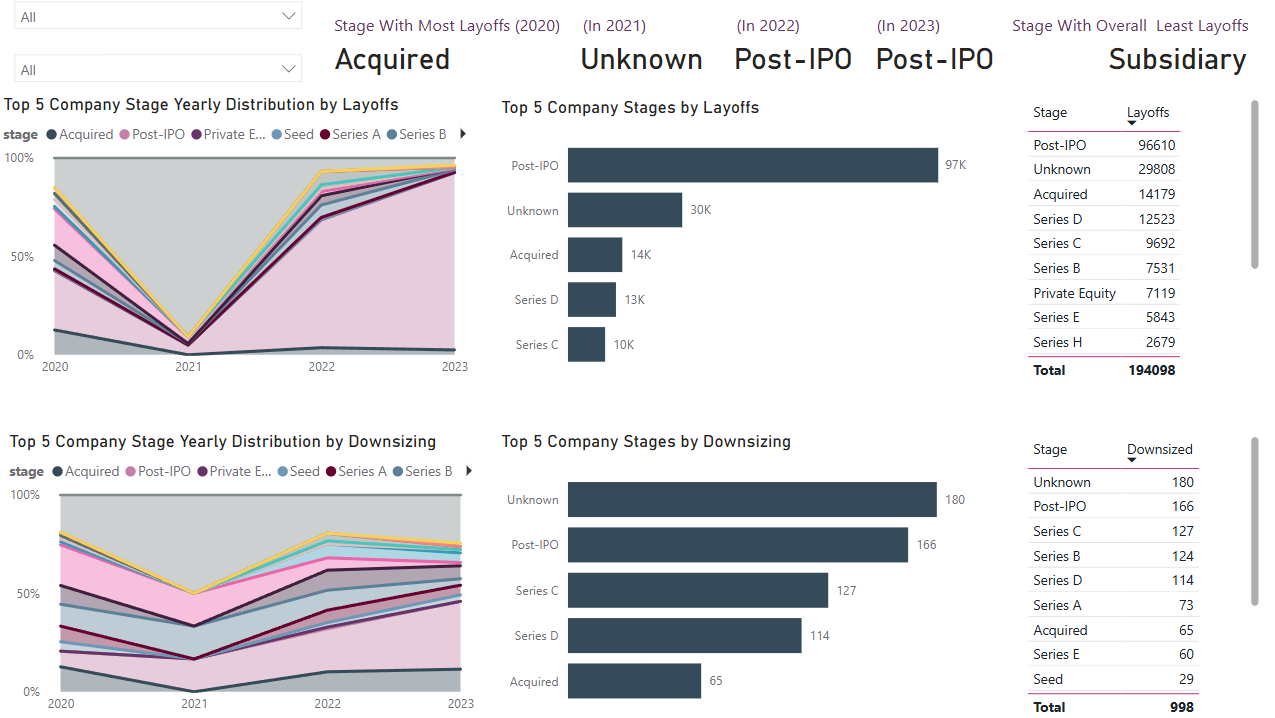

This screenshot's page, from the dashboard's own definition file:
{"tool":"powerbi","page":{"name":"Page 4","canvas":[1280,720],"ordinal":4},"visuals":[{"type":"clusteredBarChart","title":"Top 5 Company Stages by Layoffs ","fields":{"Y":["Sum(layoffs_final.total_laid_off)"],"Category":["layoffs_final.stage"]},"box":[508.7,110.9,462,281.1],"z":0},{"type":"clusteredBarChart","title":"Top 5 Company Stages by Downsizing ","fields":{"Category":["layoffs_final.stage"],"Y":["CountNonNull(layoffs_final.company)"]},"box":[508.7,435.7,462,284],"z":1000},{"type":"tableEx","fields":{"Values":["layoffs_final.stage","Sum(layoffs_final.total_laid_off)"]},"box":[1020.3,108,236.4,284],"z":2000},{"type":"tableEx","fields":{"Values":["layoffs_final.stage","CountNonNull(layoffs_final.company)"]},"box":[1020.3,435.7,236.4,284],"z":3000},{"type":"slicer","fields":{"Values":["layoffs_final.date.Variation.Date Hierarchy.Year","layoffs_final.date.Variation.Date Hierarchy.Quarter","layoffs_final.date.Variation.Date Hierarchy.Month","layoffs_final.date.Variation.Date Hierarchy.Day"]},"box":[30.2,7.8,299.6,51.6],"z":4000},{"type":"slicer","fields":{"Values":["layoffs_final.industry"]},"box":[30.2,59.3,299.6,51.6],"z":5000},{"type":"hundredPercentStackedAreaChart","title":"Top 5 Company Stage Yearly Distribution by Layoffs","fields":{"Y":["Sum(layoffs_final.total_laid_off)"],"Category":["layoffs_final.date.Variation.Date Hierarchy.Year"],"Series":["layoffs_final.stage"]},"box":[24.3,108,462,284],"z":6000},{"type":"hundredPercentStackedAreaChart","title":"Top 5 Company Stage Yearly Distribution by Downsizing","fields":{"Y":["CountNonNull(layoffs_final.company)"],"Category":["layoffs_final.date.Variation.Date Hierarchy.Year"],"Series":["layoffs_final.stage"]},"box":[30.2,435.7,462,284],"z":7000},{"type":"textbox","box":[346.3,24.3,924,82.7],"z":7001},{"type":"textbox","box":[346.3,51.6,917.2,48.6],"z":7002}]}

Visuals, with their boxes in screenshot pixels (x1, y1, x2, y2), scaled from the page's 1280x720 canvas onto the 1275x718 screenshot:
"Top 5 Company Stages by Layoffs " clusteredBarChart: Rect(507, 111, 967, 391)
"Top 5 Company Stages by Downsizing " clusteredBarChart: Rect(507, 434, 967, 717)
tableEx - layoffs_final.stage x Sum(layoffs_final.total_laid_off): Rect(1016, 108, 1252, 391)
tableEx - layoffs_final.stage x CountNonNull(layoffs_final.company): Rect(1016, 434, 1252, 717)
slicer - layoffs_final.date.Variation.Date Hierarchy.Year x layoffs_final.date.Variation.Date Hierarchy.Quarter: Rect(30, 8, 329, 59)
slicer - layoffs_final.industry: Rect(30, 59, 329, 111)
"Top 5 Company Stage Yearly Distribution by Layoffs" hundredPercentStackedAreaChart: Rect(24, 108, 484, 391)
"Top 5 Company Stage Yearly Distribution by Downsizing" hundredPercentStackedAreaChart: Rect(30, 434, 490, 717)
textbox: Rect(345, 24, 1265, 107)
textbox: Rect(345, 51, 1259, 100)
